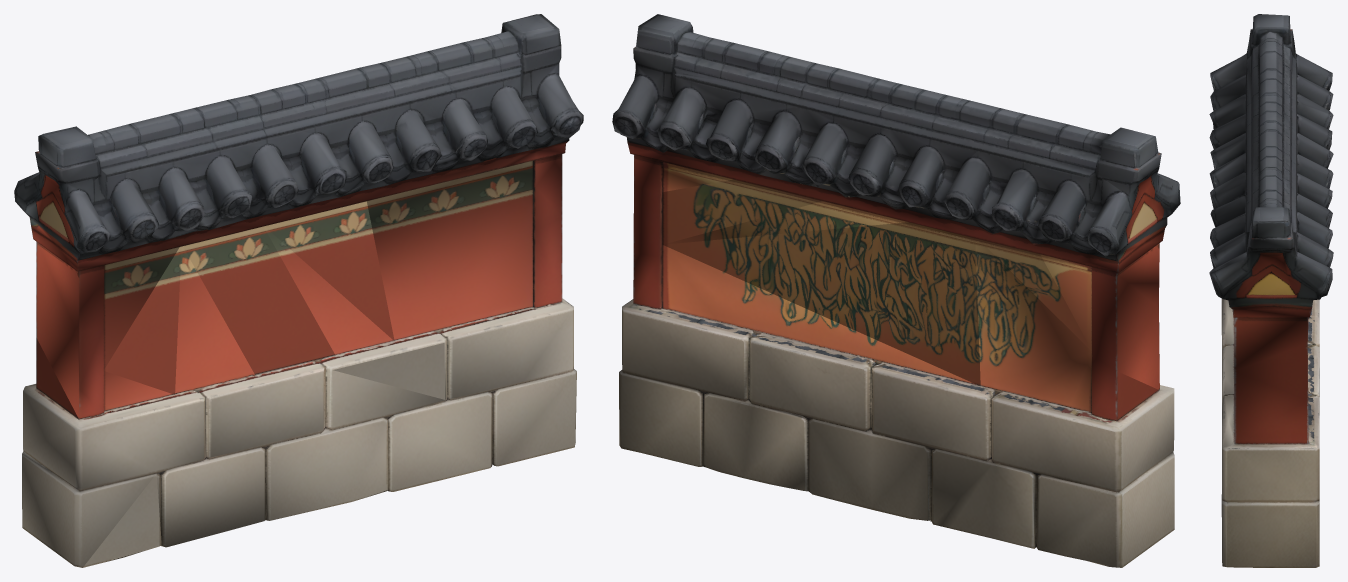
The model's file is wall_palace.glb.
3 views of the same model, side by side, from view 1: azimuth 30°, elevation 25°; view 2: azimuth 150°, elevation 25°; view 3: azimuth 270°, elevation 25° (orthographic). The views are drawn at different scales.
Parts seen in each view (by area): view 1: low; view 2: low; view 3: low.
Boxes of the visible parts, x1,y1,x2,y2 form: low: (14,14,583,567); low: (612,14,1180,567); low: (1209,14,1333,567).
Bounding box in the file's own units: 0.9978 × 0.7675 × 0.2489.
Materials: 1 (1 with a texture image).
